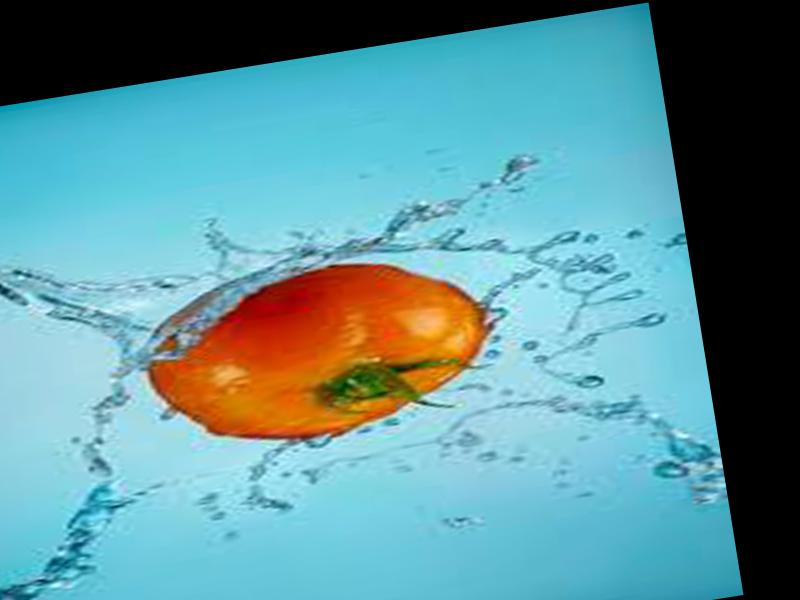Tomato: (136, 239, 502, 459)
